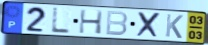2: (24, 5, 49, 34)
B: (104, 10, 129, 37)
H: (78, 9, 105, 35)
K: (164, 13, 185, 40)
L: (50, 7, 72, 35)
X: (136, 11, 163, 40)
